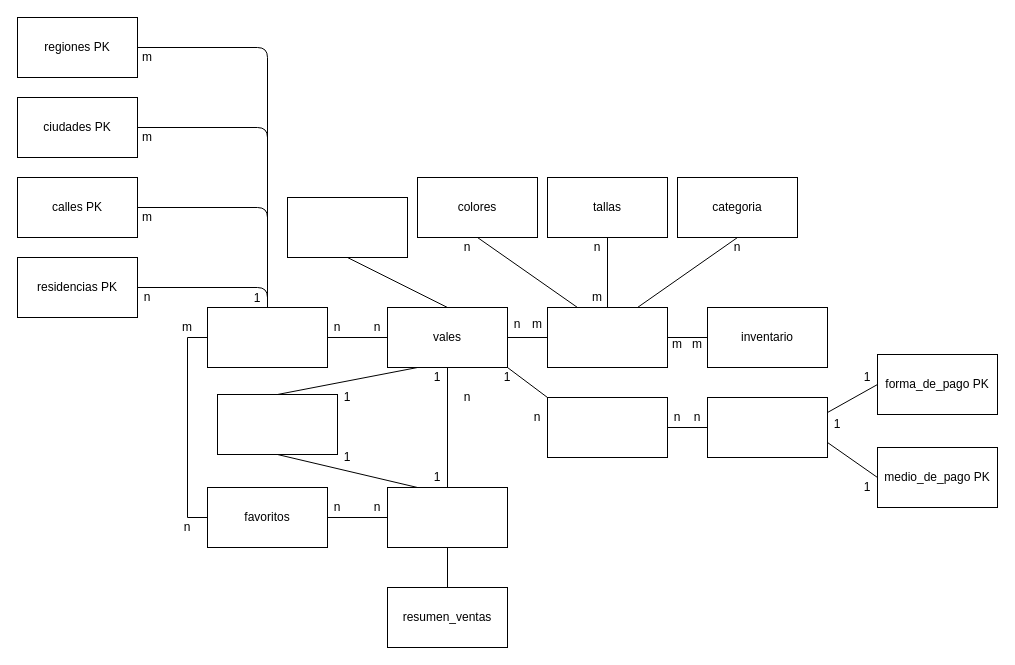
Image size: 1015x665. Some labels were removed from this diagram. Here are the shapes that lost their labels. From the top down, the centre of each, then its label:
At (x=347, y=227): "codigos_vales".
At (x=267, y=337): "clientes".
At (x=607, y=337): "items".
At (x=277, y=424): "estados_pedidos".
At (x=607, y=427): "pagos".
At (x=767, y=427): "transacciones".
At (x=447, y=517): "ventas".
